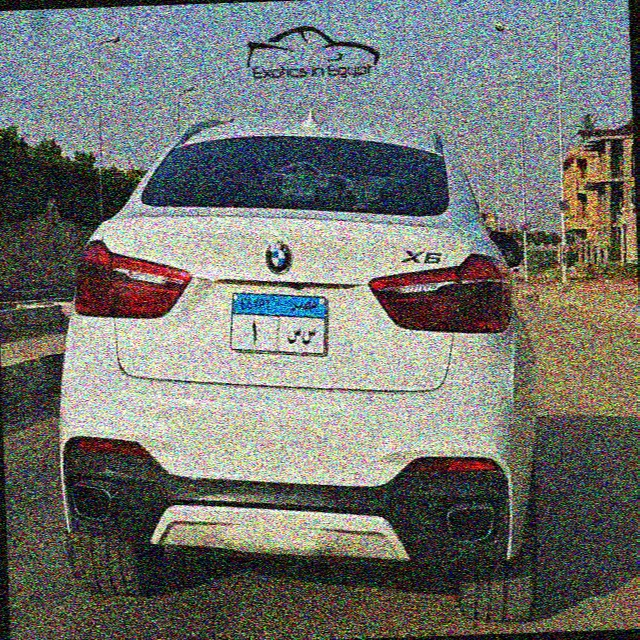License Plate: (226, 286, 331, 362)
